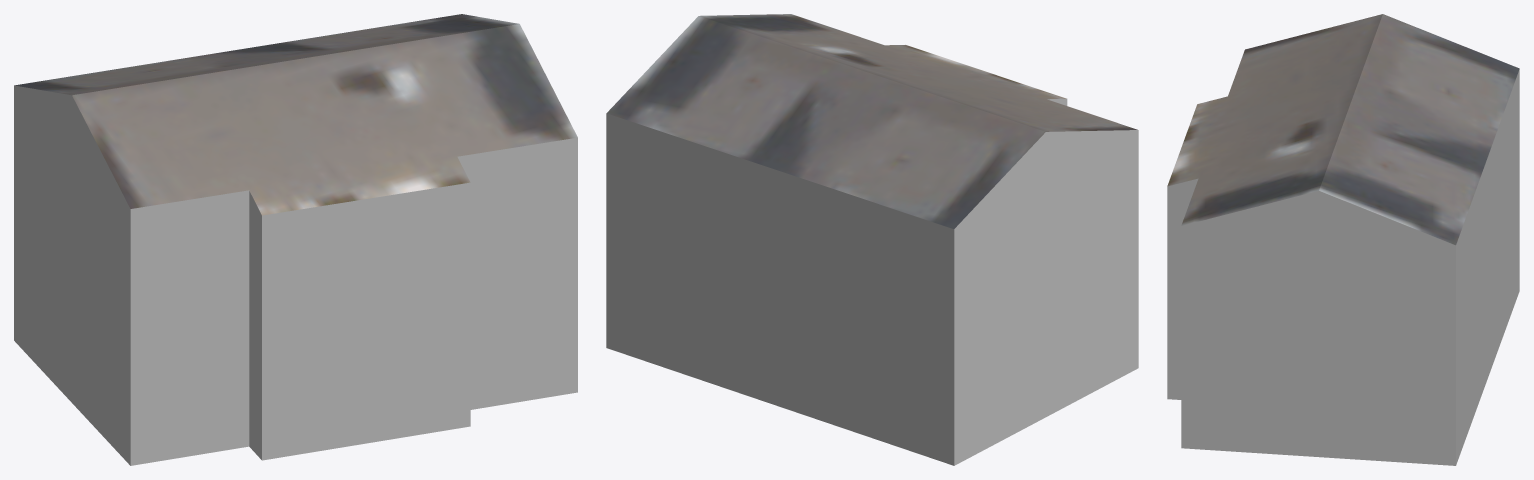
Rendered from DEBW_0010007TxcX.gltf.
The picture shows the model from 3 angles, left to right: view 1: azimuth 30°, elevation 25°; view 2: azimuth 150°, elevation 25°; view 3: azimuth 270°, elevation 25°; orthographic projection. The views are drawn at different scales.
Visible parts, largest first — view 1: Z_UP; view 2: Z_UP; view 3: Z_UP.
Part boxes in pixels (bbox=[...]): Z_UP: bbox=[14, 14, 577, 465]; Z_UP: bbox=[606, 14, 1138, 465]; Z_UP: bbox=[1167, 14, 1519, 465].
Bounding box in the file's own units: 17.29 × 11.23 × 13.38.
Materials: 2 (1 with a texture image).
